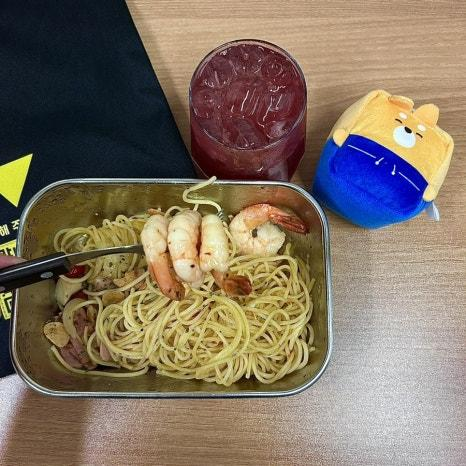Lunch Box: (10, 180, 332, 397)
cup: (189, 39, 306, 180)
